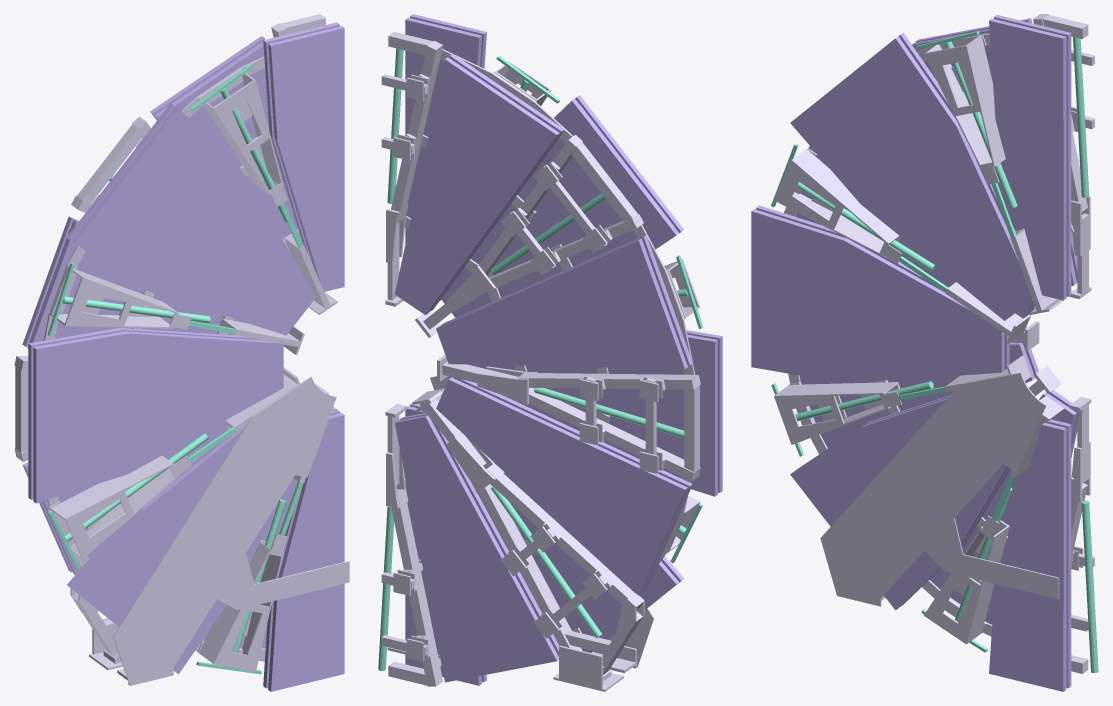
Rendered from Small-Wheel-Chambers-SideA-cut2.glb.
The picture shows the model from 3 angles, left to right: view 1: azimuth 30°, elevation 25°; view 2: azimuth 150°, elevation 25°; view 3: azimuth 330°, elevation 25°; orthographic projection.
Parts seen in each view (by area): view 1: null; view 2: null; view 3: null.
Part boxes in pixels (left/top/right/bottom): null: left=14, top=14, right=349, bottom=691; null: left=378, top=14, right=722, bottom=691; null: left=751, top=14, right=1098, bottom=691.
Size of the model in its own units: 4.83 by 9.29 by 0.9681.
